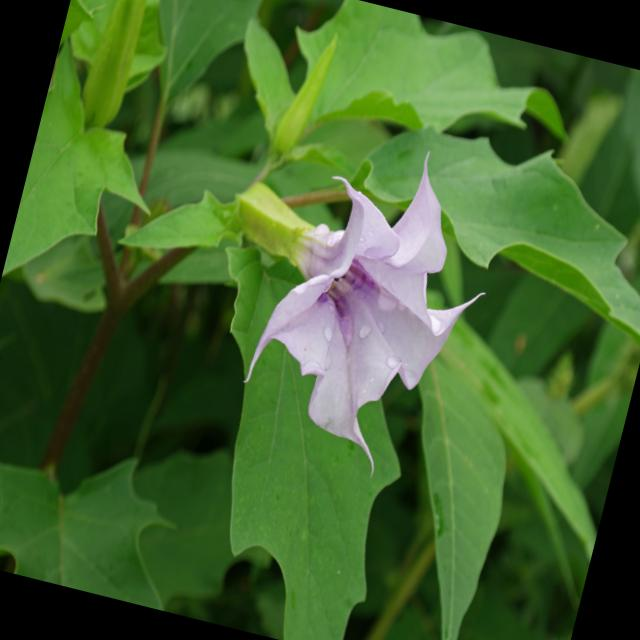Poisonous-Datura_Stramonium: (162, 100, 516, 492), (0, 0, 260, 378), (260, 0, 598, 178), (0, 417, 229, 618)
